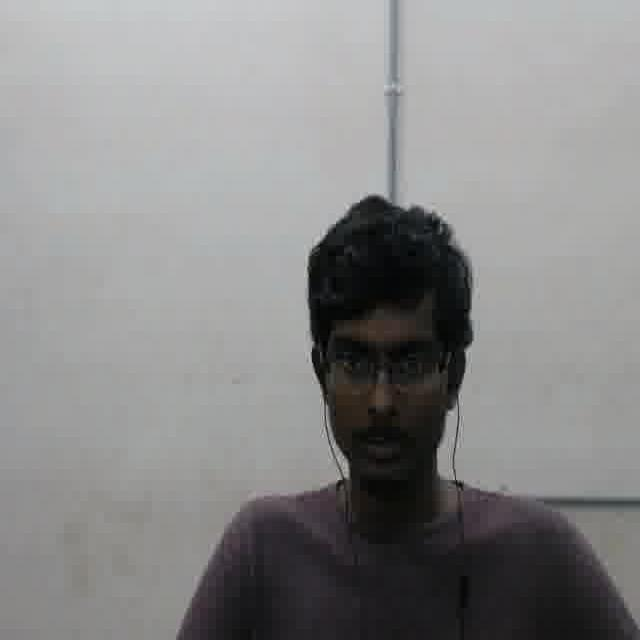Engaged: (324, 296, 437, 477)
